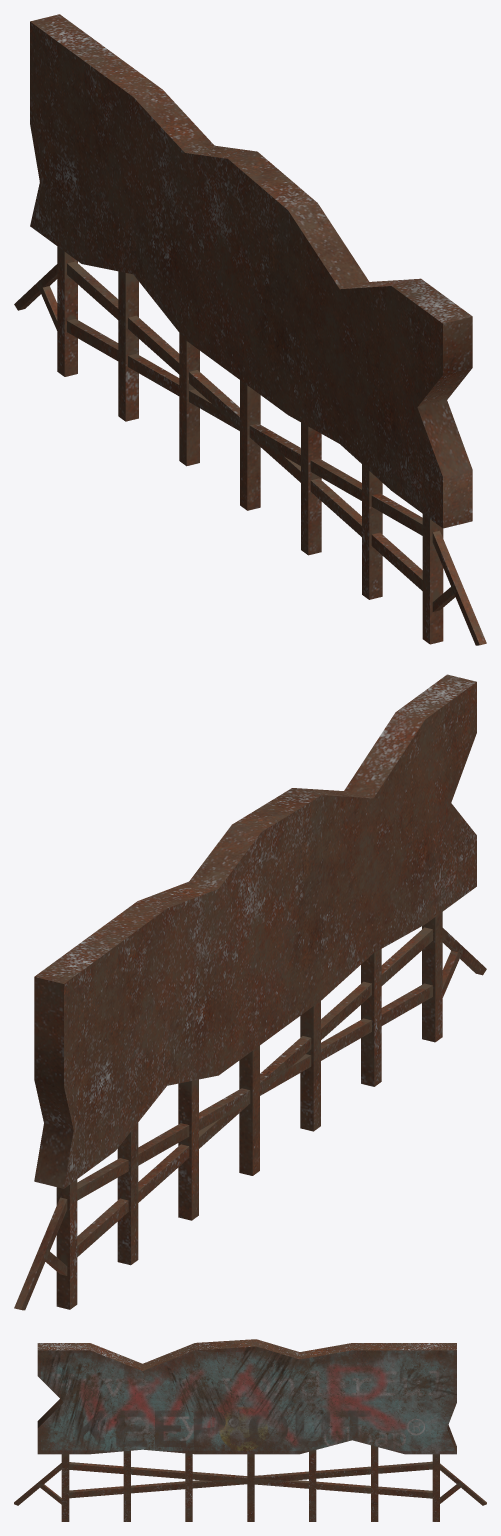
File: VallaPubli.obj
The picture shows the model from 3 angles, top to bottom: view 1: azimuth 30°, elevation 25°; view 2: azimuth 150°, elevation 25°; view 3: azimuth 270°, elevation 25°; orthographic projection. The views are drawn at different scales.
Visible parts, largest first — view 1: Box136, Box140; view 2: Box136, Box140; view 3: Box136, Box140.
Part boxes in pixels (x1,y1,x2,y2): Box136: (30, 14, 472, 528); Box140: (14, 246, 486, 645); Box136: (34, 674, 476, 1188); Box140: (14, 912, 486, 1310); Box136: (37, 1339, 456, 1454); Box140: (14, 1445, 486, 1521).
Size of the model in its own units: 2.96 by 33.12 by 80.35.
Materials: 1 (1 with a texture image).
